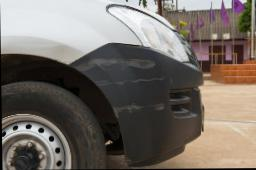Bumper: (70, 44, 182, 125)
